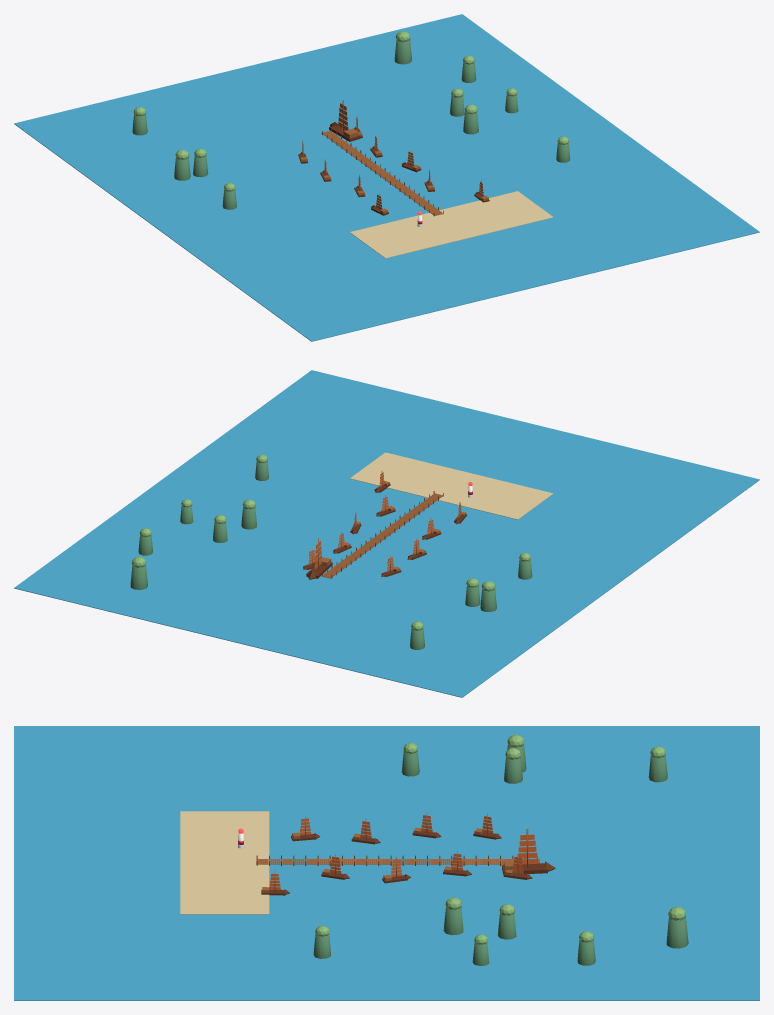
3 renders of one model, top to bottom at view 1: azimuth 30°, elevation 25°; view 2: azimuth 150°, elevation 25°; view 3: azimuth 270°, elevation 25°, orthographic. The views are drawn at different scales.
Parts seen in each view (by area): view 1: Sea, Beach; view 2: Sea, Beach; view 3: Sea, Beach, BigShip, Island_6, Island_0, Island_2, Island_9, Island_7, Island_3, Island_4, Island_8.
Part boxes in pixels (box(x1,y1,x2,y2)): Sea: box(14, 14, 759, 341); Beach: box(350, 191, 553, 258); Sea: box(14, 370, 759, 697); Beach: box(350, 452, 553, 519); Sea: box(14, 726, 759, 1000); Beach: box(180, 811, 269, 914); BigShip: box(502, 829, 555, 874); Island_6: box(666, 906, 688, 948); Island_0: box(443, 897, 463, 935); Island_2: box(648, 746, 667, 782); Island_9: box(504, 748, 522, 783); Island_7: box(497, 904, 516, 939); Island_3: box(577, 931, 595, 965); Island_4: box(401, 742, 419, 776); Island_8: box(313, 925, 330, 958).
Size of the model in its own units: 160 by 19.18 by 184.
